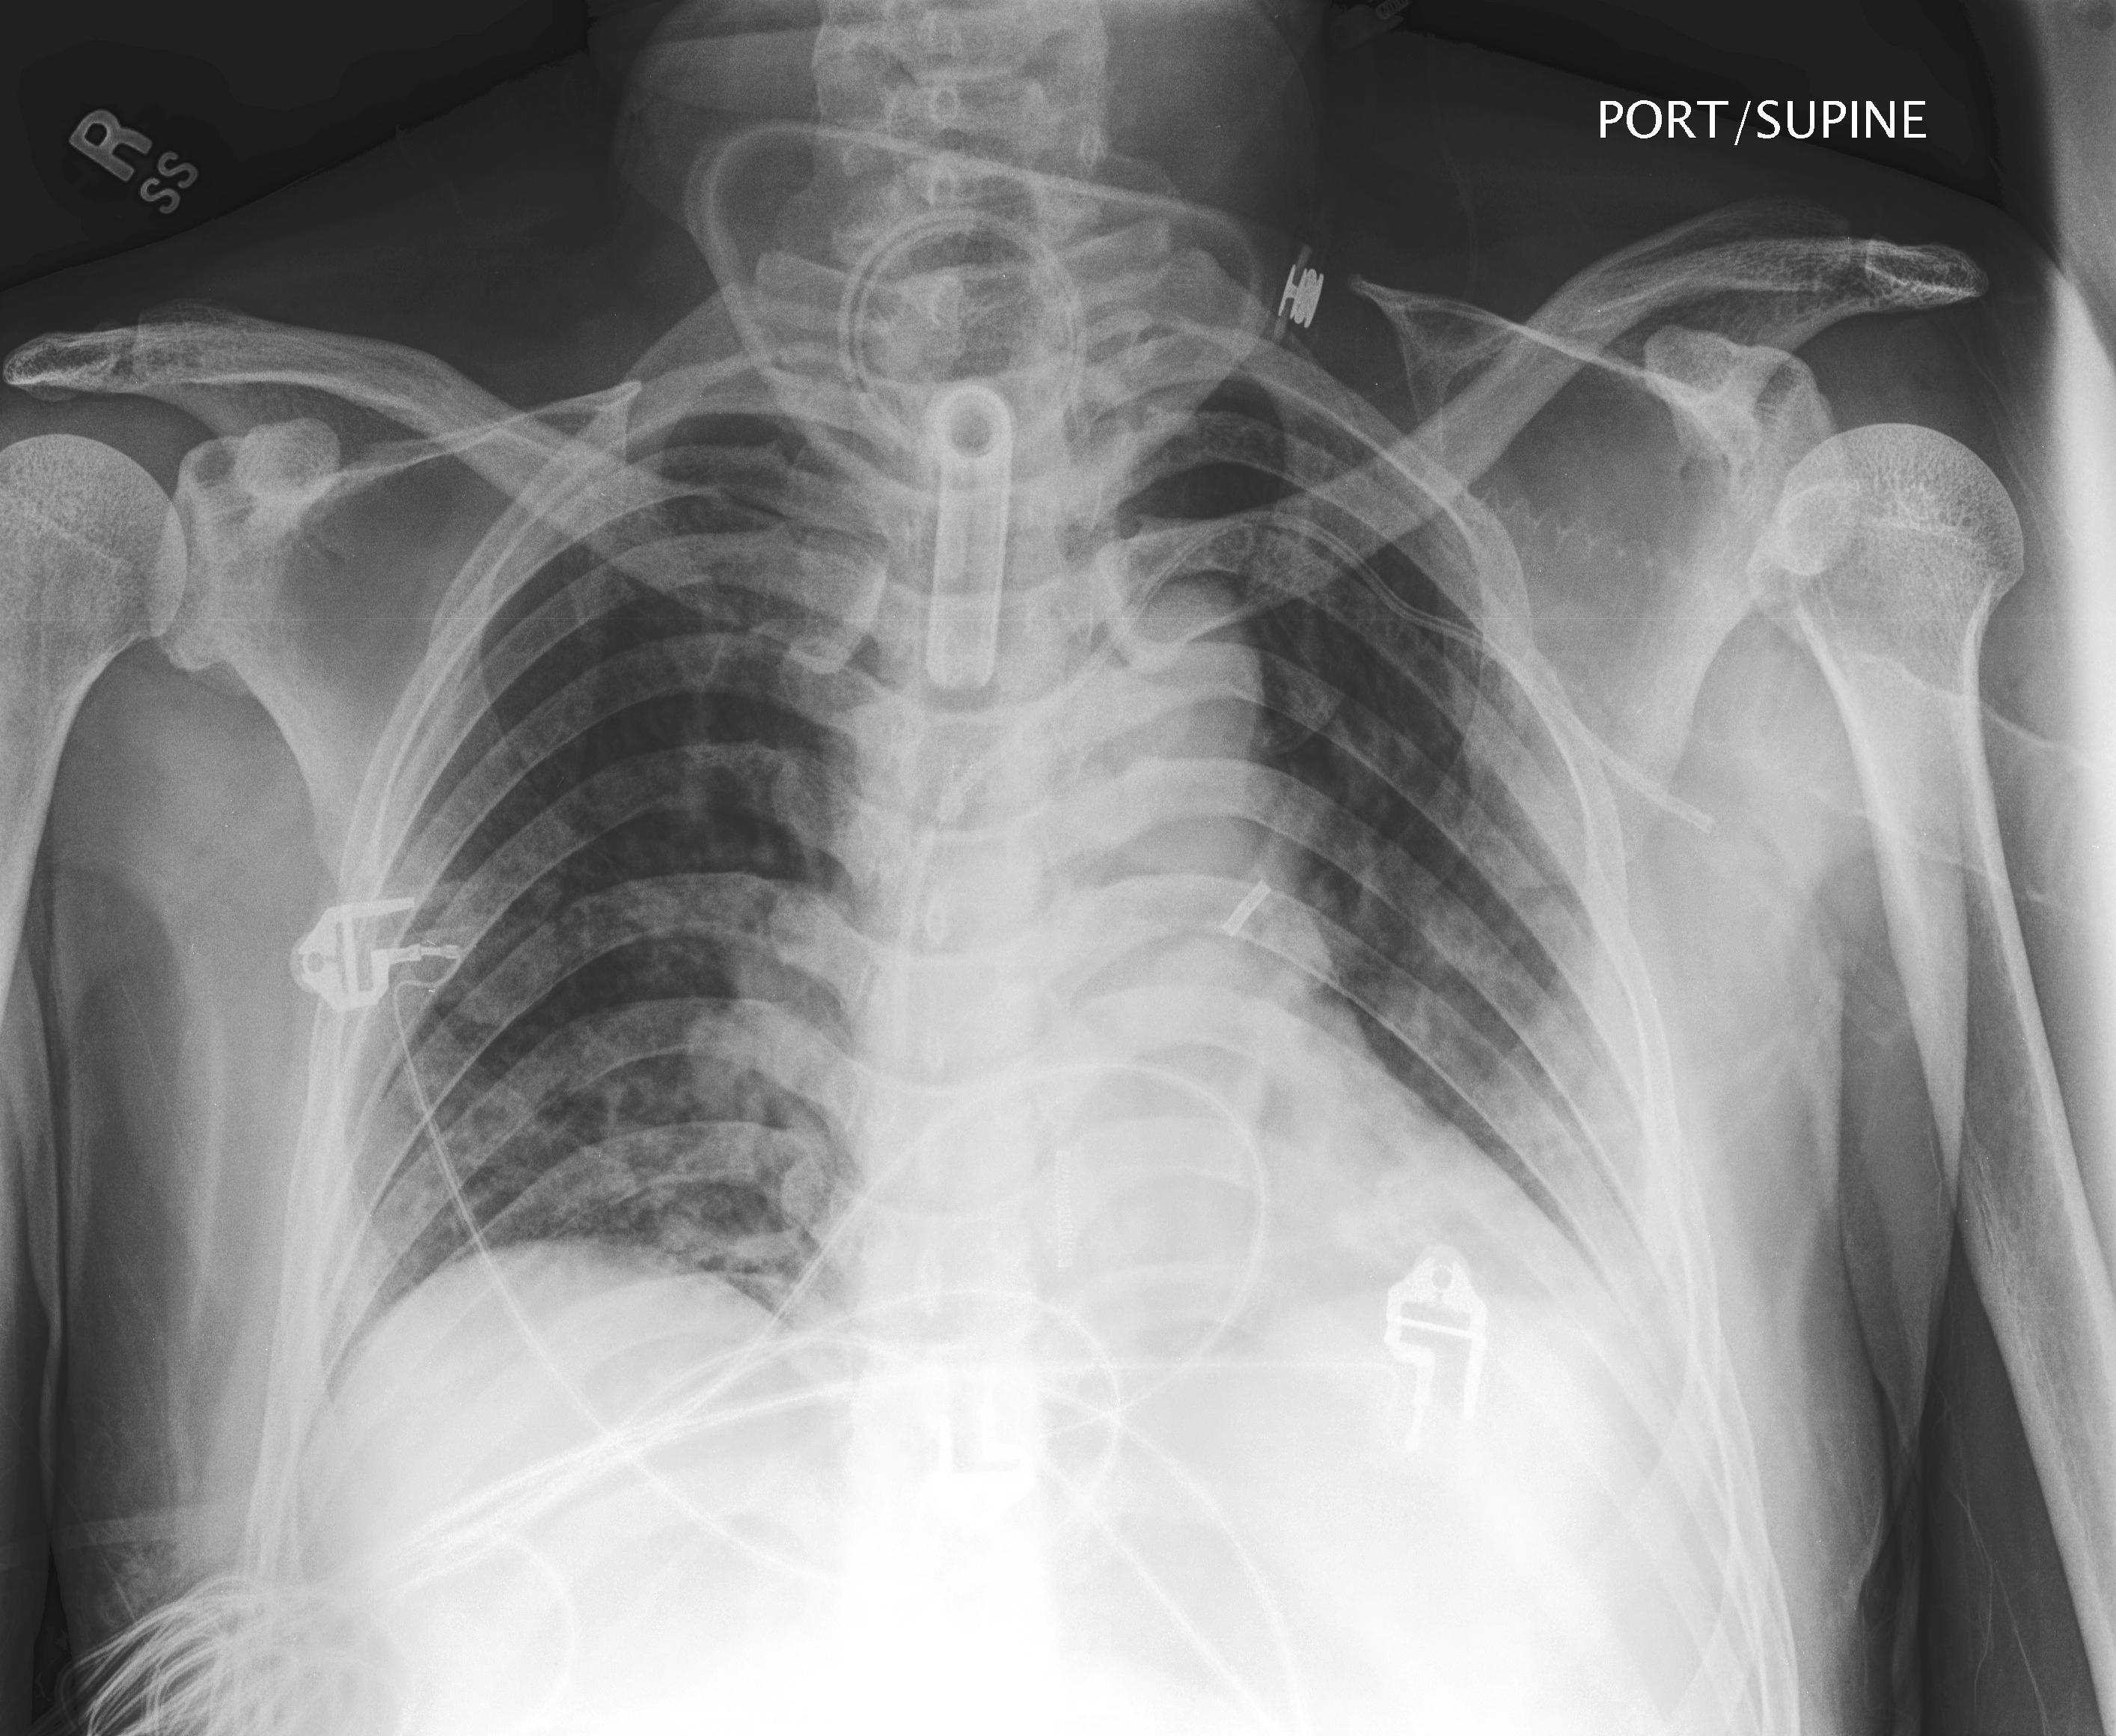Pleural Effusion: (1409, 1151, 1763, 1595)
